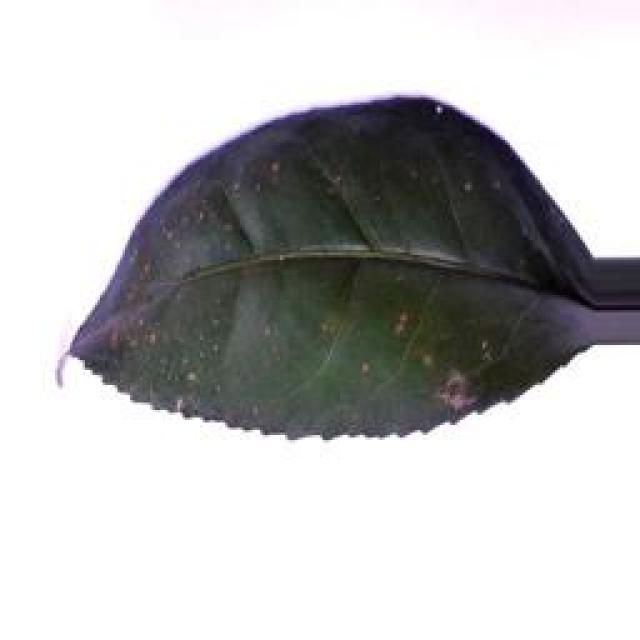Algal Leaf Spot: (31, 94, 608, 449)
